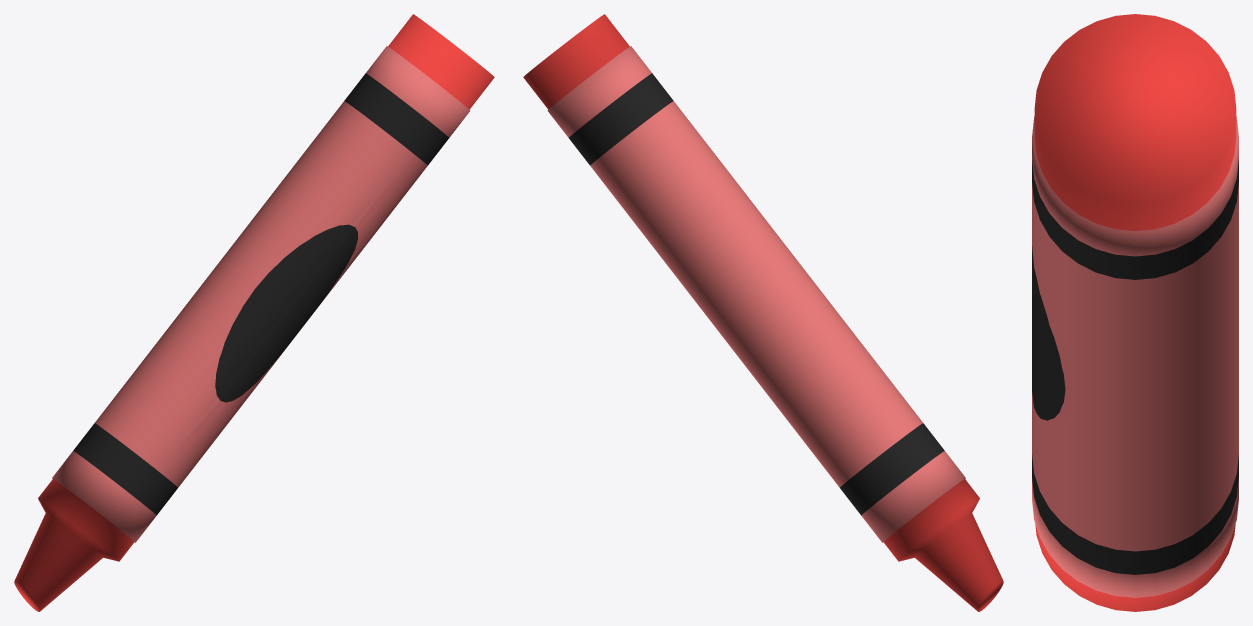
File: crayon.glb
3 renders of one model, left to right at view 1: azimuth 30°, elevation 25°; view 2: azimuth 150°, elevation 25°; view 3: azimuth 270°, elevation 25°, orthographic. The views are drawn at different scales.
Parts seen in each view (by area): view 1: Cylinder.508; view 2: Cylinder.508; view 3: Cylinder.508.
Boxes of the visible parts, bbox=[...] form: Cylinder.508: bbox=[14, 14, 494, 611]; Cylinder.508: bbox=[523, 14, 1003, 611]; Cylinder.508: bbox=[1032, 14, 1238, 611].
Size of the model in its own units: 2.09 by 2.12 by 0.4115.
1 material, 1 textured.
